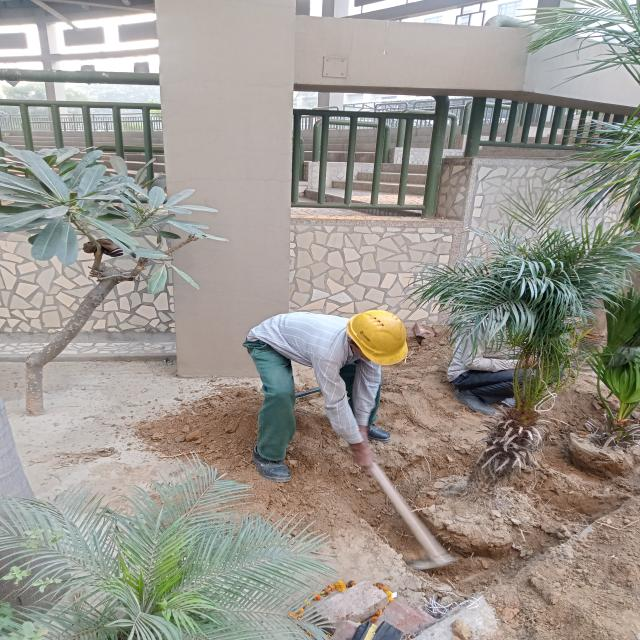no jacket: (241, 303, 409, 479)
